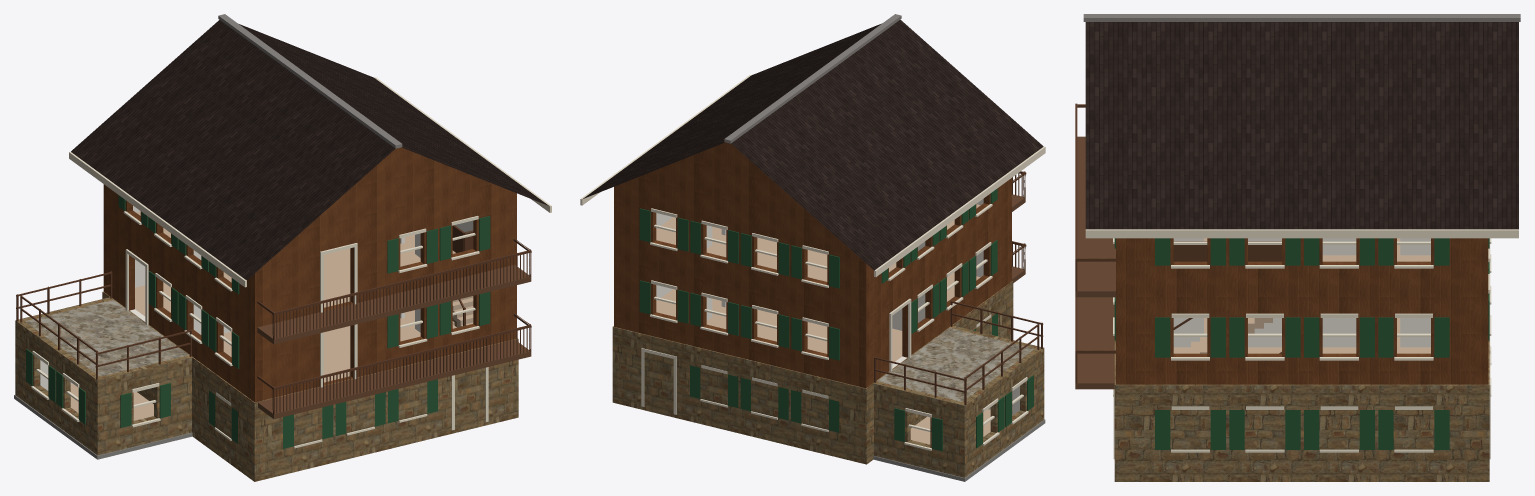
The model's file is rw-chalet.towns-v2.lod0.glb.
3 views of the same model, side by side, from view 1: azimuth 30°, elevation 25°; view 2: azimuth 150°, elevation 25°; view 3: azimuth 270°, elevation 25° (orthographic). The views are drawn at different scales.
Parts seen in each view (by area): view 1: rw-chalet; view 2: rw-chalet; view 3: rw-chalet.
Part boxes in pixels (x1=…): rw-chalet: x1=14, y1=14, x2=551, y2=481; rw-chalet: x1=580, y1=14, x2=1045, y2=481; rw-chalet: x1=1075, y1=14, x2=1520, y2=481.
Size of the model in its own units: 16.03 by 12.62 by 13.18.
Materials: 7 (4 with a texture image).
